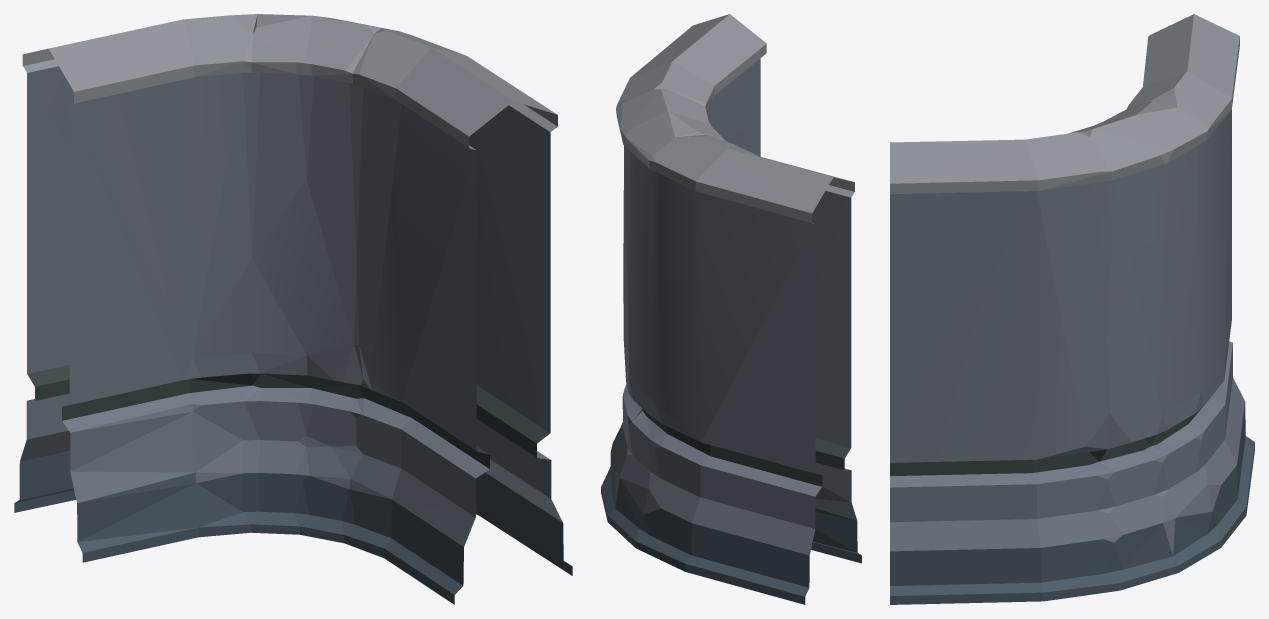
The model's file is RoundCorner1.fbx.
The picture shows the model from 3 angles, left to right: view 1: azimuth 30°, elevation 25°; view 2: azimuth 150°, elevation 25°; view 3: azimuth 270°, elevation 25°; orthographic projection. The views are drawn at different scales.
Visible parts, largest first — view 1: RoundCorner1; view 2: RoundCorner1; view 3: RoundCorner1.
Boxes of the visible parts, x1,y1,x2,y2 form: RoundCorner1: (14, 14, 572, 604); RoundCorner1: (601, 14, 861, 604); RoundCorner1: (890, 14, 1254, 604).
Bounding box in the file's own units: 360 × 476 × 360.
